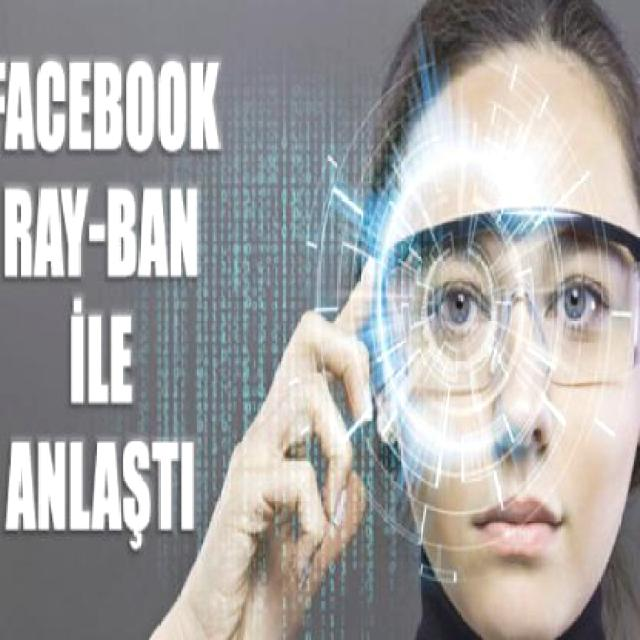face_nomask: (399, 260, 632, 569)
glasses: (378, 202, 639, 400)
hand_noglove: (183, 252, 392, 613)
head_nohelmet: (364, 0, 640, 143)
